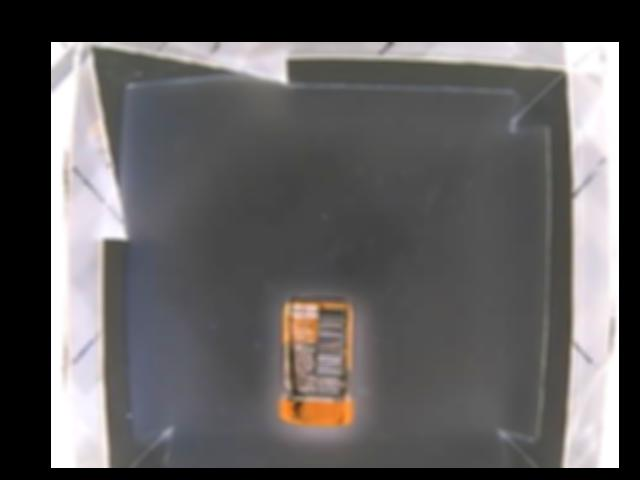Bottle: (278, 296, 357, 425)
